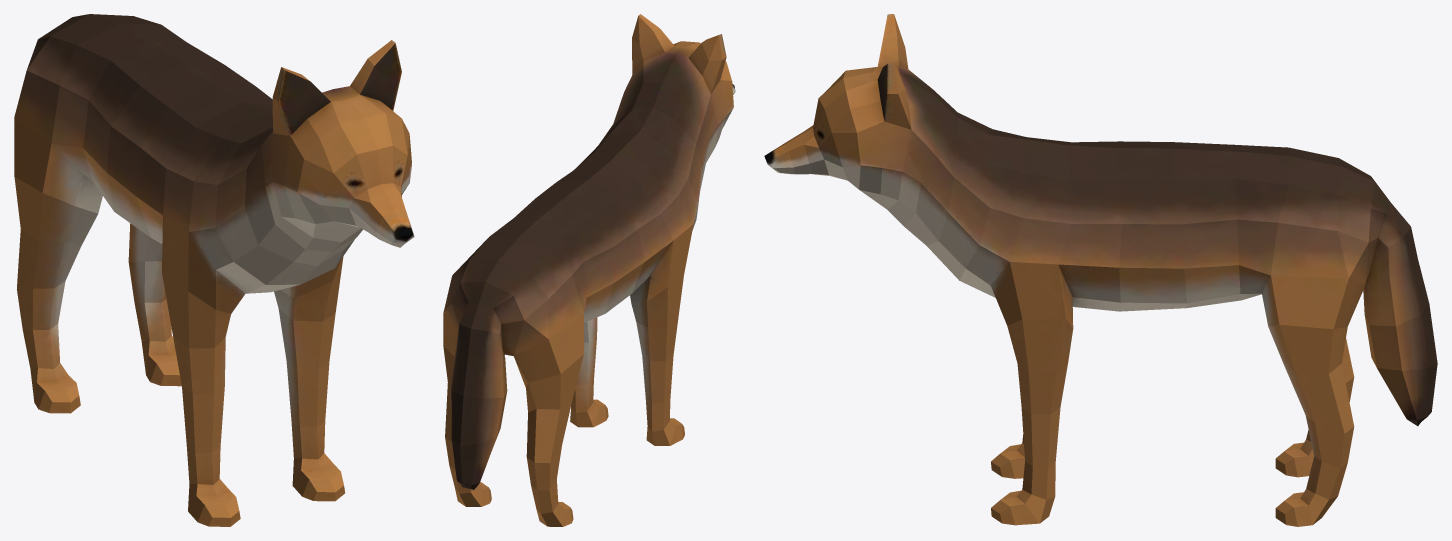
The model's file is animals-coyote-045.glb.
3 renders of one model, left to right at view 1: azimuth 30°, elevation 25°; view 2: azimuth 150°, elevation 25°; view 3: azimuth 270°, elevation 25°, orthographic. The views are drawn at different scales.
Visible parts, largest first — view 1: Coyote_Mesh; view 2: Coyote_Mesh; view 3: Coyote_Mesh.
Part boxes in pixels (box(x1,y1,x2,y2)): Coyote_Mesh: box(14, 14, 414, 526); Coyote_Mesh: box(443, 14, 735, 526); Coyote_Mesh: box(764, 14, 1437, 526).
Size of the model in its own units: 1.8 by 5.11 by 6.85.
1 material, 1 textured.
